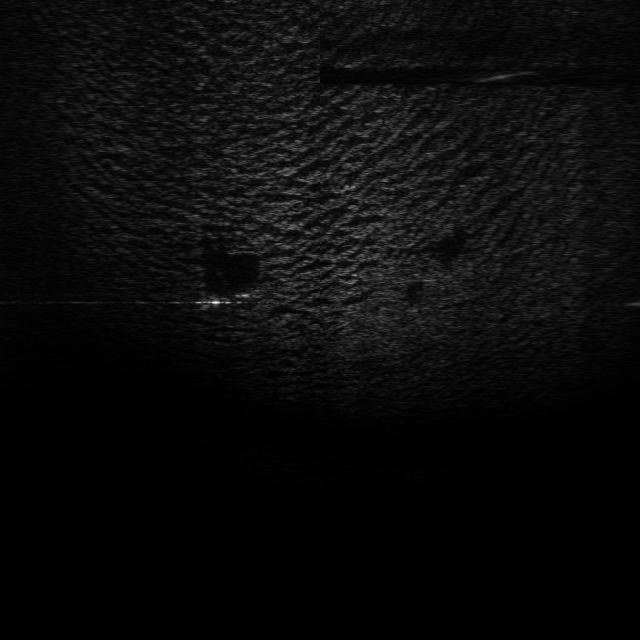plane: (193, 285, 269, 312)
